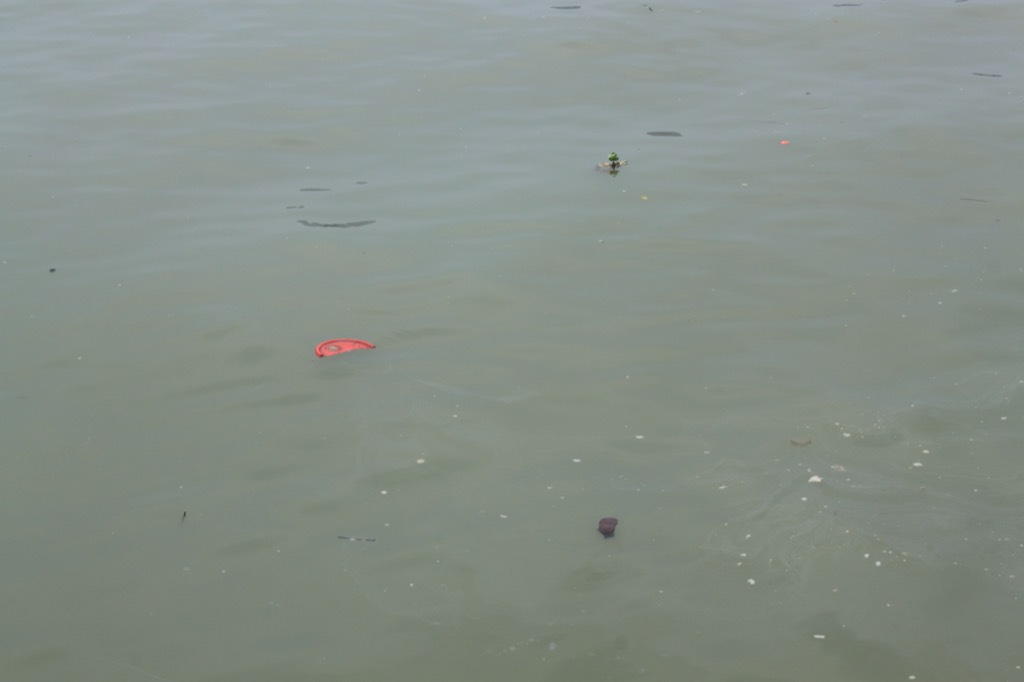organic: (592, 146, 635, 185), (330, 525, 383, 550), (166, 502, 196, 535), (42, 259, 64, 281)
plastic: (298, 324, 402, 380), (587, 504, 642, 562), (762, 129, 804, 165)
